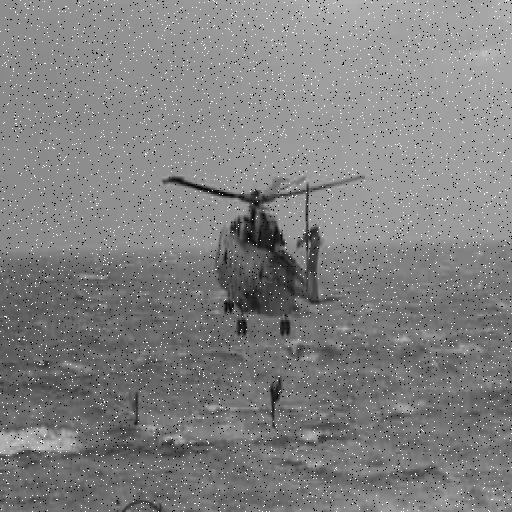helicopter: (160, 133, 364, 358)
